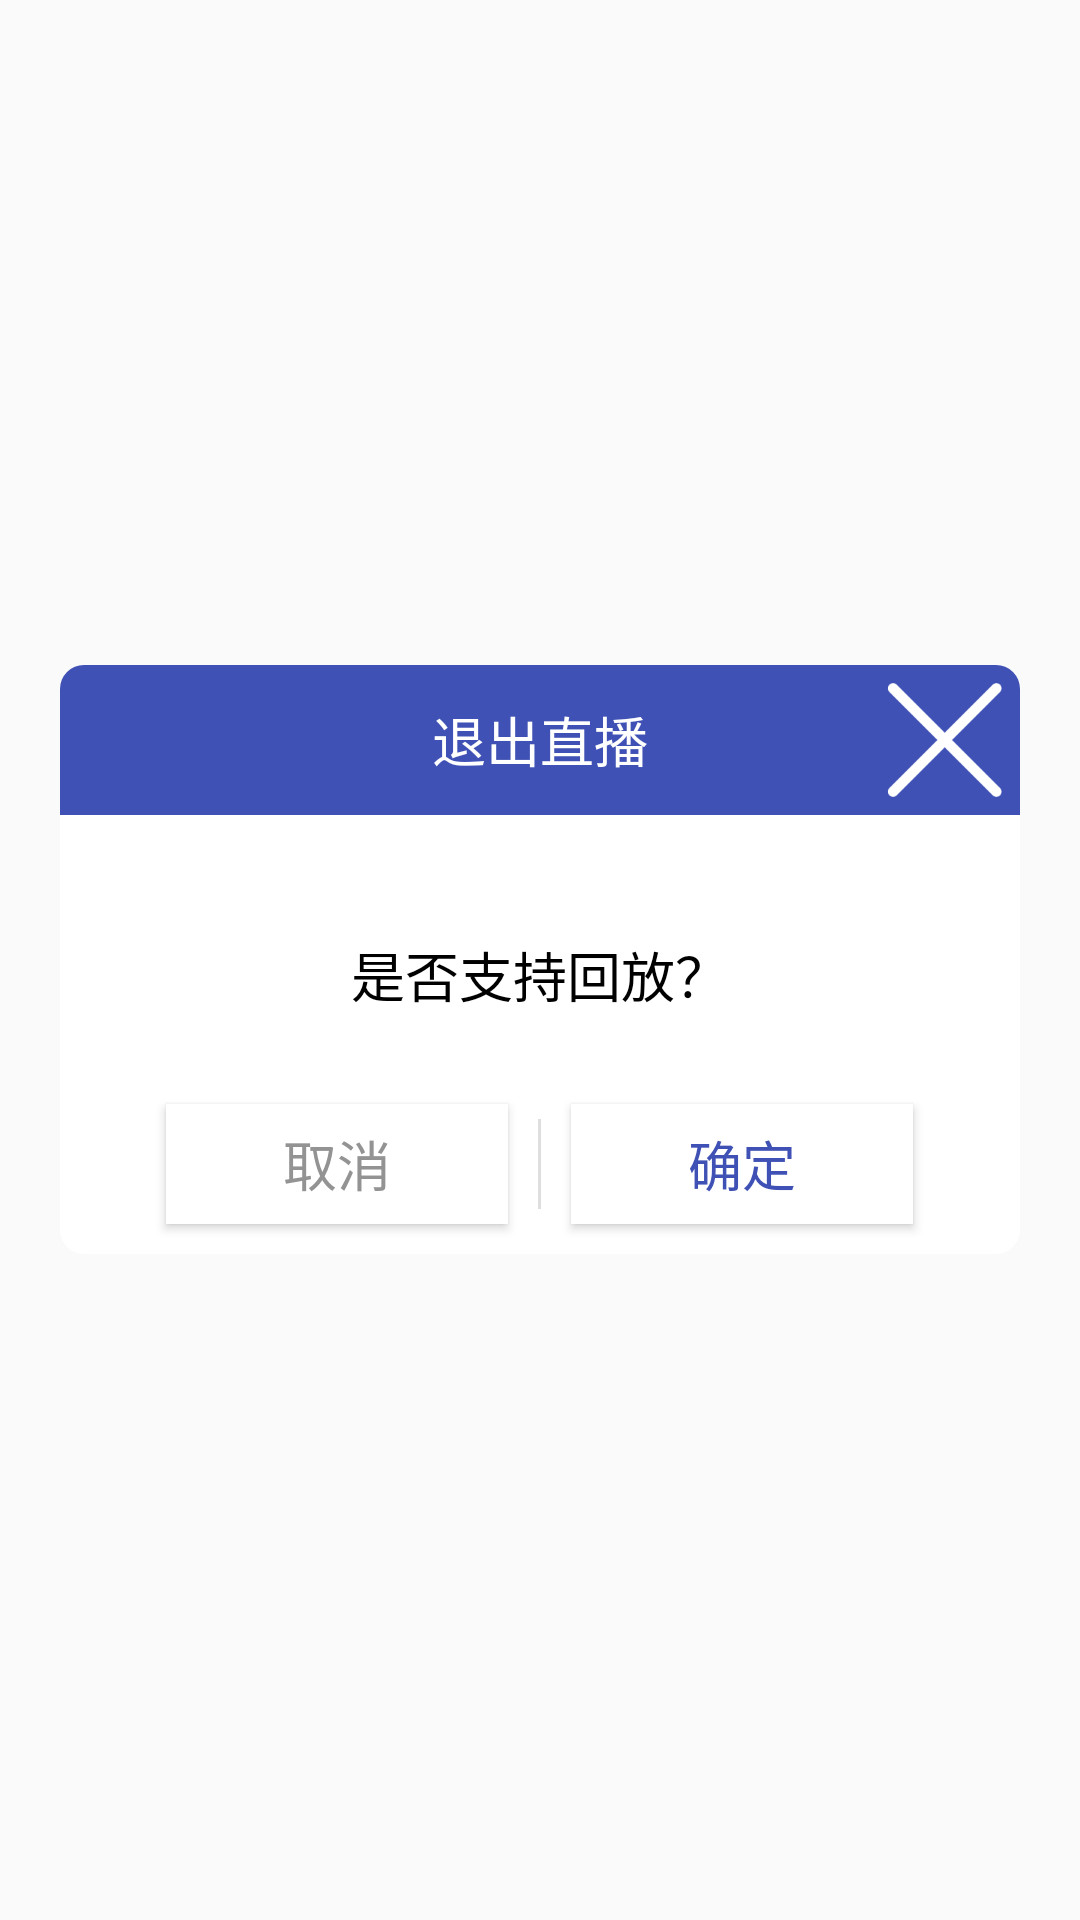

Point at icon controls on the screen. Image size 1080px×1920px, points as point (x, y).
cancel: point (945, 740)
